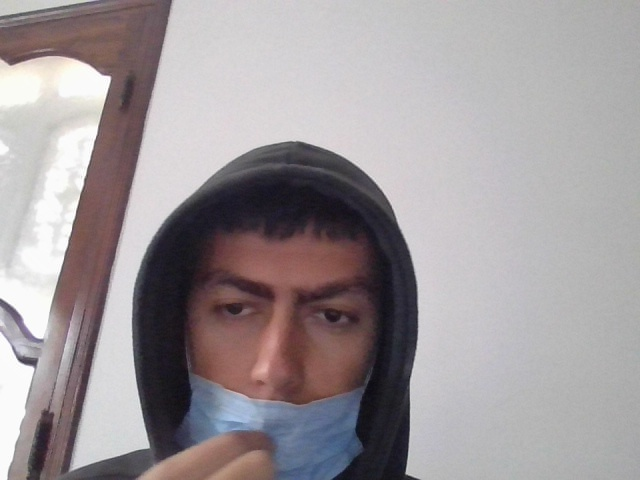mask_weared_incorrect: (163, 212, 375, 480)
